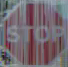Stop: (0, 0, 65, 58)
